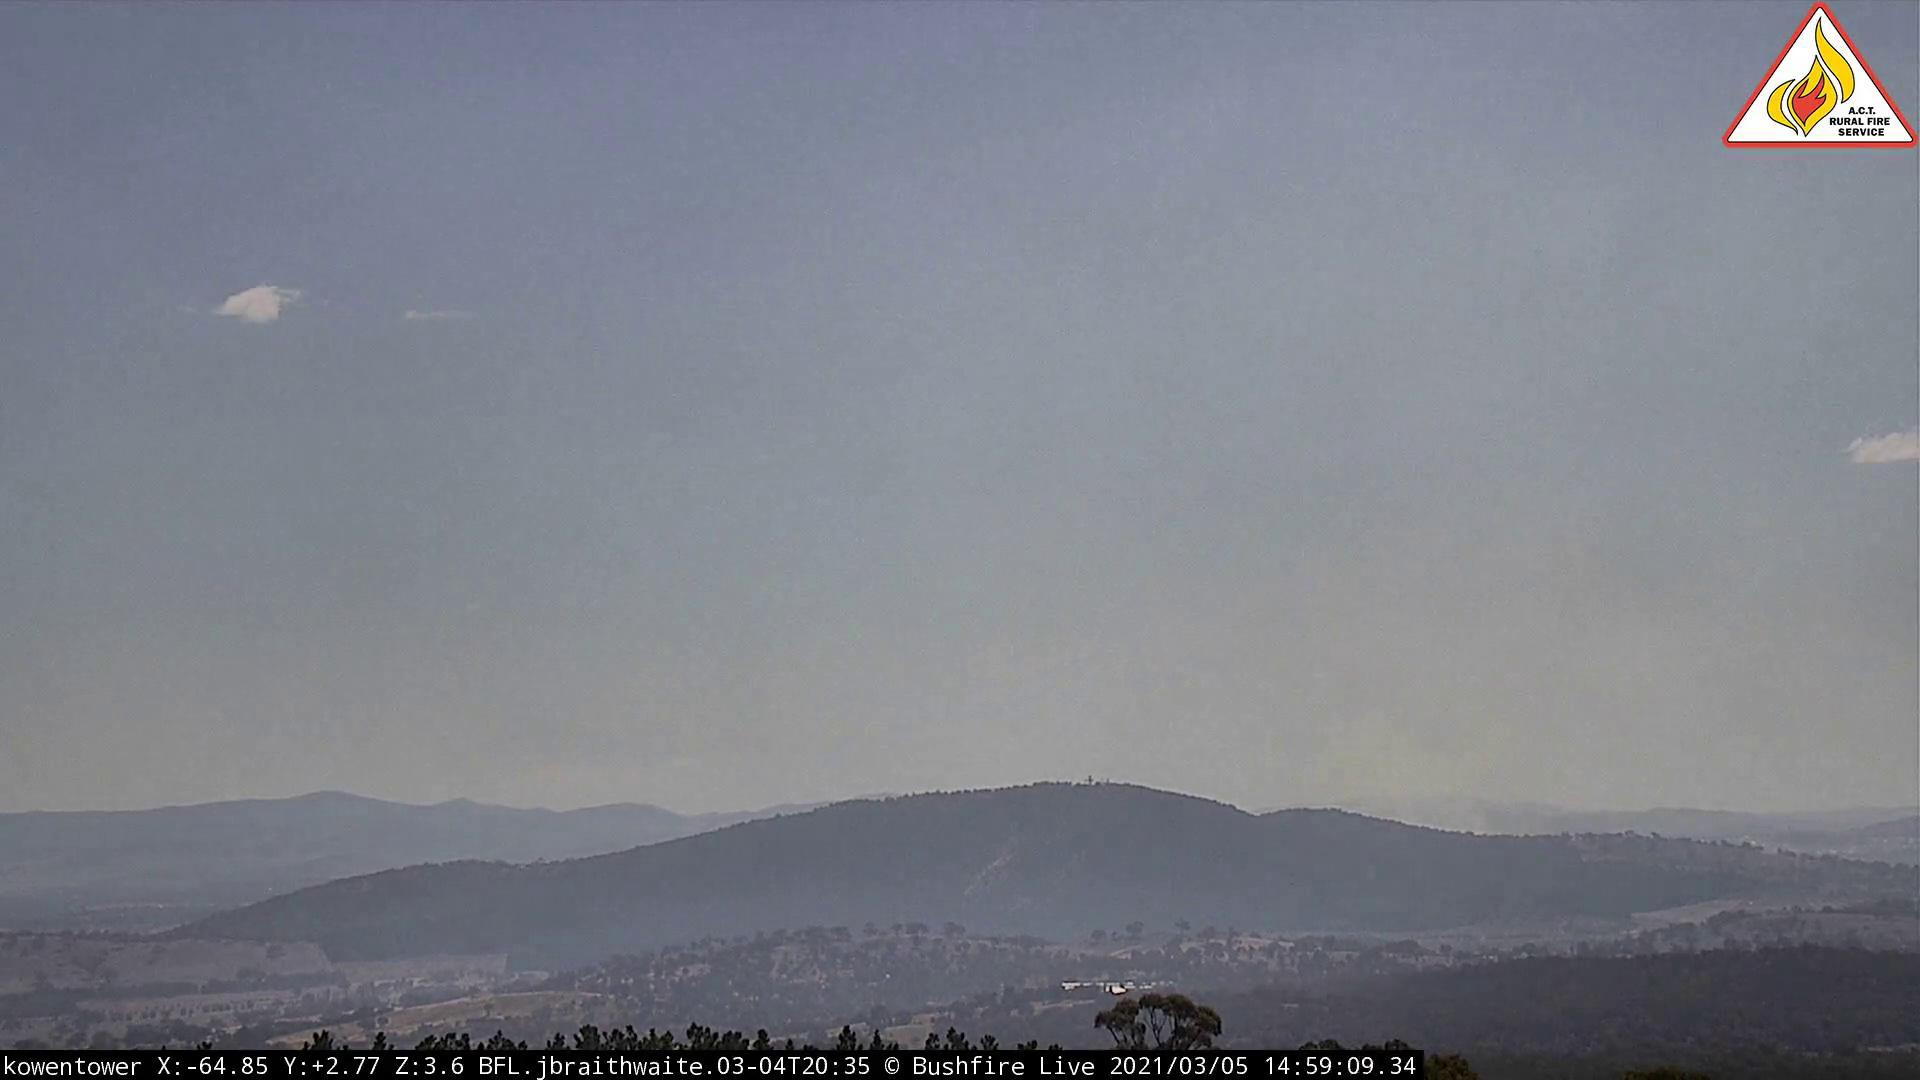instance_salient_object: (1112, 460, 1797, 843)
